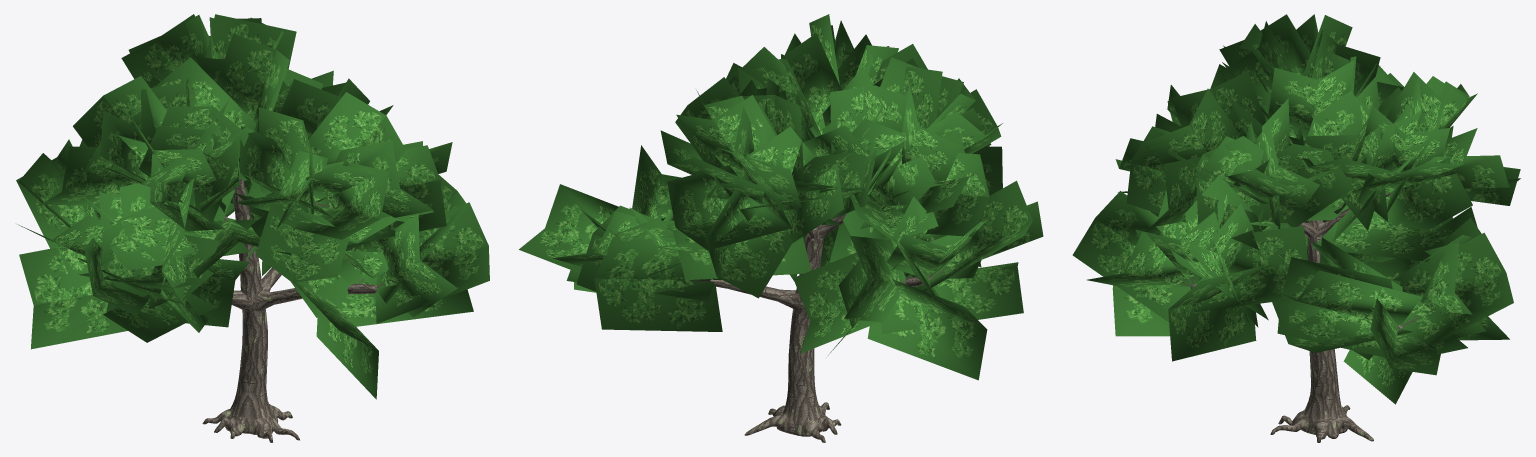
Rendered from environment_elm1_v57.fbx.
3 renders of one model, left to right at view 1: azimuth 30°, elevation 25°; view 2: azimuth 150°, elevation 25°; view 3: azimuth 270°, elevation 25°, orthographic. The views are drawn at different scales.
Parts seen in each view (by area): view 1: environment_elm1_v57_lod0; view 2: environment_elm1_v57_lod0; view 3: environment_elm1_v57_lod0.
Boxes of the visible parts, x1=… form: environment_elm1_v57_lod0: x1=16, y1=14, x2=489, y2=442; environment_elm1_v57_lod0: x1=519, y1=14, x2=1043, y2=442; environment_elm1_v57_lod0: x1=1072, y1=14, x2=1520, y2=442.
Size of what is drawn, in the model's own units: 2930 by 2300 by 2558.
2 materials, 2 textured.
